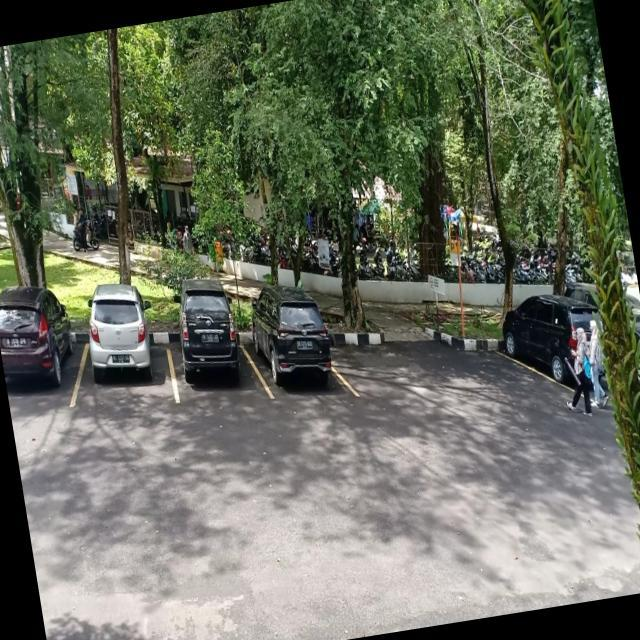occupied: (70, 304, 178, 406), (246, 305, 350, 403), (0, 306, 83, 414), (163, 310, 256, 405)
